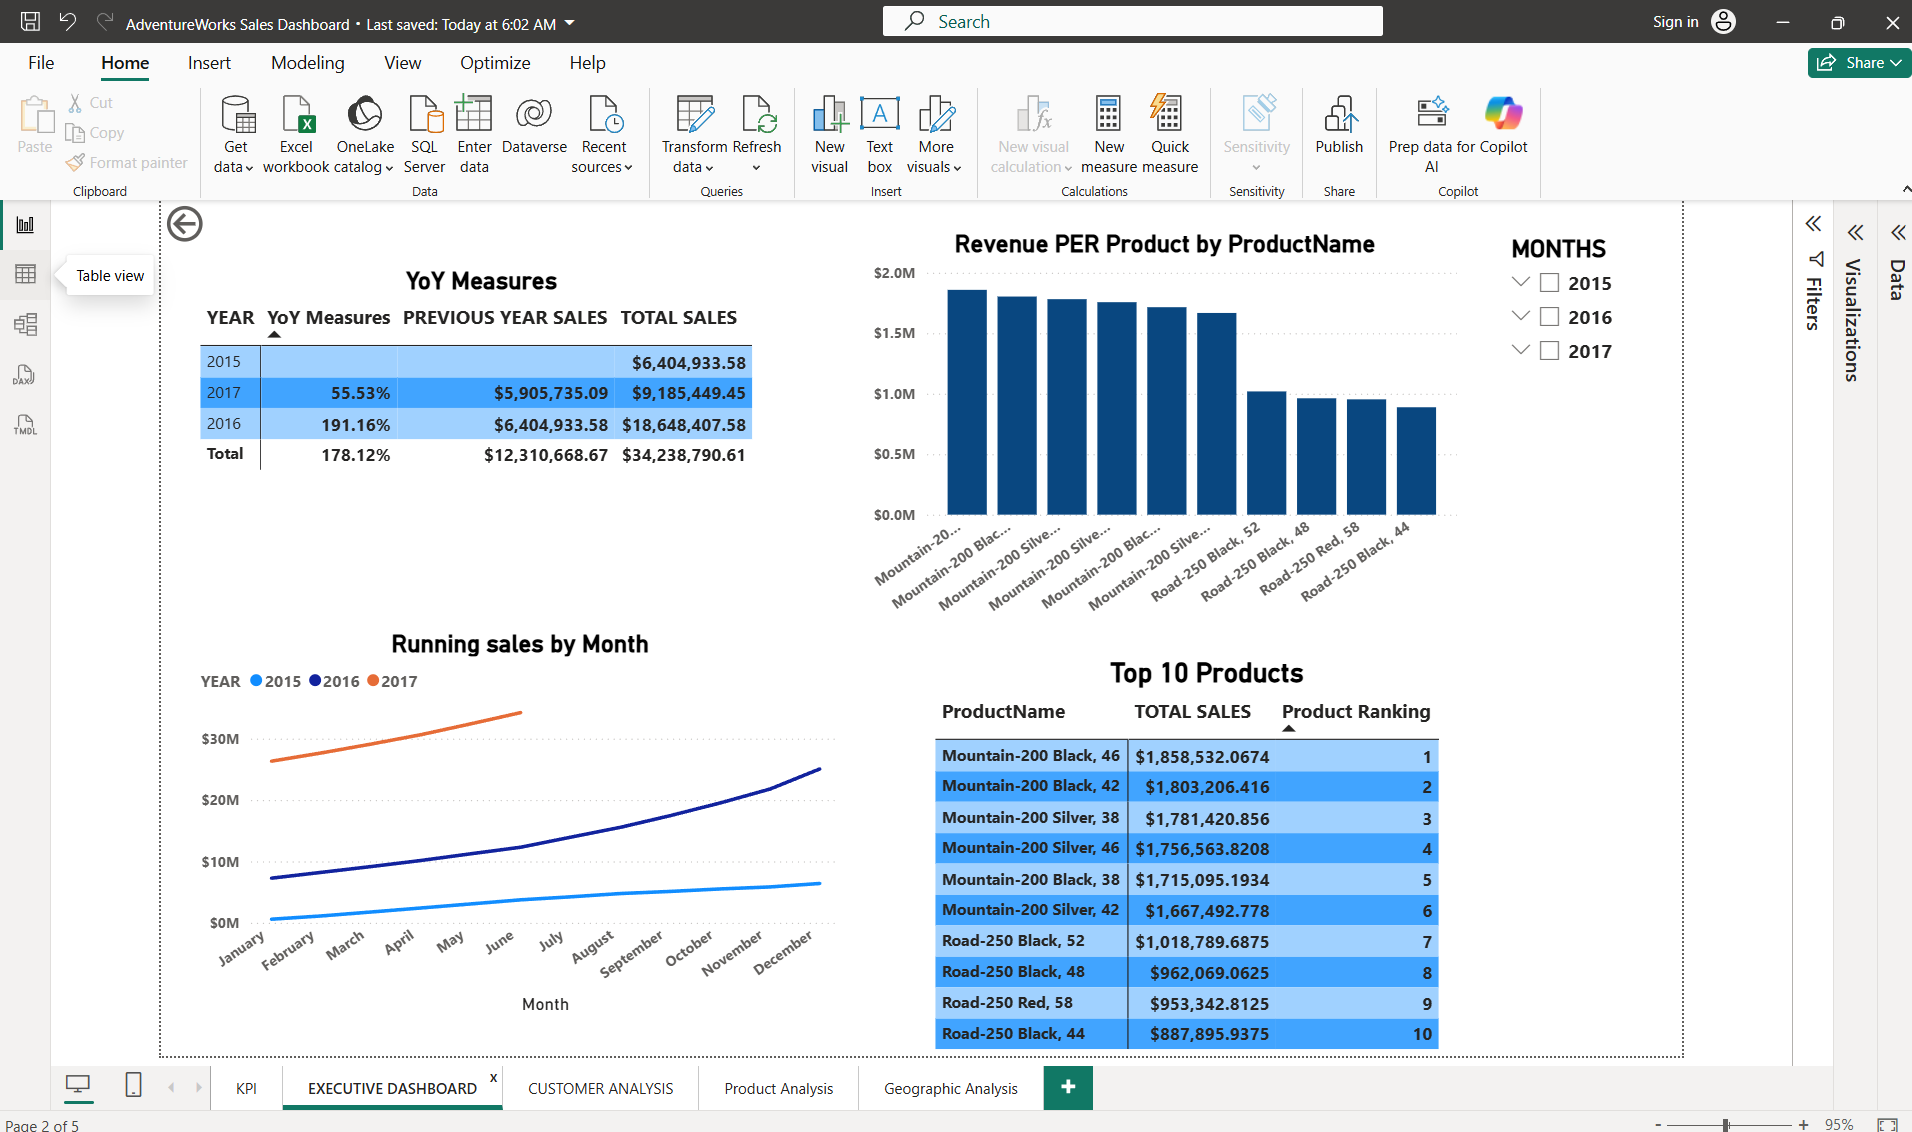

The page's visual inventory and layout, read from the dashboard file:
{"tool":"powerbi","page":{"name":"EXECUTIVE DASHBOARD","canvas":[1280,720],"ordinal":1},"visuals":[{"type":"pivotTable","title":"YoY Measures","fields":{"Rows":["DATE TABLE.YEAR"],"Values":["SALES.YoY Measures","DATE TABLE.PREVIOUS YEAR SALES","SALES.TOTAL SALES"]},"box":[27.9,55.8,482.6,197.7],"z":0},{"type":"lineChart","title":"Running sales by Month ","fields":{"Y":["SALES.running sales"],"Series":["DATE TABLE.YEAR"],"Category":["DATE TABLE.Date.Variation.Date Hierarchy.Year","DATE TABLE.Date.Variation.Date Hierarchy.Month"]},"box":[27.9,360.5,547.7,329.1],"z":1000},{"type":"actionButton","box":[0,0,100,40],"z":2000},{"type":"clusteredColumnChart","title":"Revenue PER Product by ProductName","fields":{"Y":["PRODUCT DETAILS.REV PER PRODUCT"],"Category":["PRODUCT DETAILS.ProductName"]},"box":[594.2,24.5,501.1,335.7],"z":3000},{"type":"pivotTable","title":"Top 10 Products","fields":{"Values":["SALES.TOTAL SALES","PRODUCT DETAILS.Product Ranking"],"Rows":["PRODUCT DETAILS.ProductName"]},"box":[646.5,383.7,466.3,336],"z":4000},{"type":"slicer","fields":{"Values":["DATE TABLE.YEAR","DATE TABLE.MONTH"]},"box":[1123.3,24.4,147.7,682.6],"z":6000}]}

Visuals, with their boxes on the page's 1280x720 design canvas (x1, y1, x2, y2). These are canvas units, not pixel positions in the 1912x1132 screenshot, which may show the page scaled, cropped or inside an application window:
"YoY Measures" pivotTable: bbox=[28, 56, 510, 254]
"Running sales by Month " lineChart: bbox=[28, 360, 576, 690]
actionButton: bbox=[0, 0, 100, 40]
"Revenue PER Product by ProductName" clusteredColumnChart: bbox=[594, 24, 1095, 360]
"Top 10 Products" pivotTable: bbox=[646, 384, 1113, 720]
slicer - DATE TABLE.YEAR x DATE TABLE.MONTH: bbox=[1123, 24, 1271, 707]
